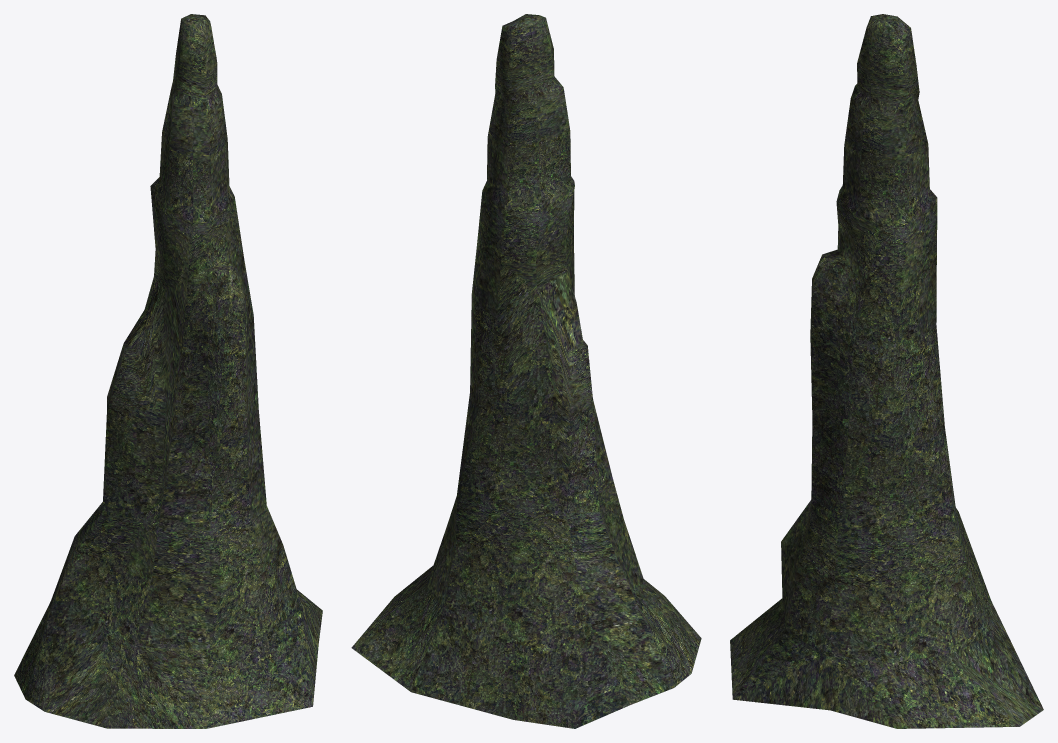
Rendered from dmw_dungeon_pillar_03.fbx.
3 renders of one model, left to right at view 1: azimuth 30°, elevation 25°; view 2: azimuth 150°, elevation 25°; view 3: azimuth 270°, elevation 25°, orthographic. The views are drawn at different scales.
Visible parts, largest first — view 1: dmw_dungeon_pillar_03; view 2: dmw_dungeon_pillar_03; view 3: dmw_dungeon_pillar_03.
Boxes of the visible parts, x1,y1,x2,y2 form: dmw_dungeon_pillar_03: (14,14,322,728); dmw_dungeon_pillar_03: (351,14,701,728); dmw_dungeon_pillar_03: (730,14,1043,728).
Size of the model in its own units: 9.34 by 20.42 by 8.45.
